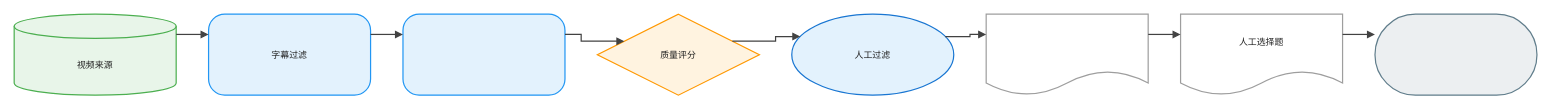
Some shapes in this 1552 by 110 pixel diagram are drawn without their labels. The centre of each missing label's shape, as x and y in pixels:
"Whisper字幕" goes at pixel 483 54.
"准确率" goes at pixel 1455 54.
"引用问题" goes at pixel 1066 54.
